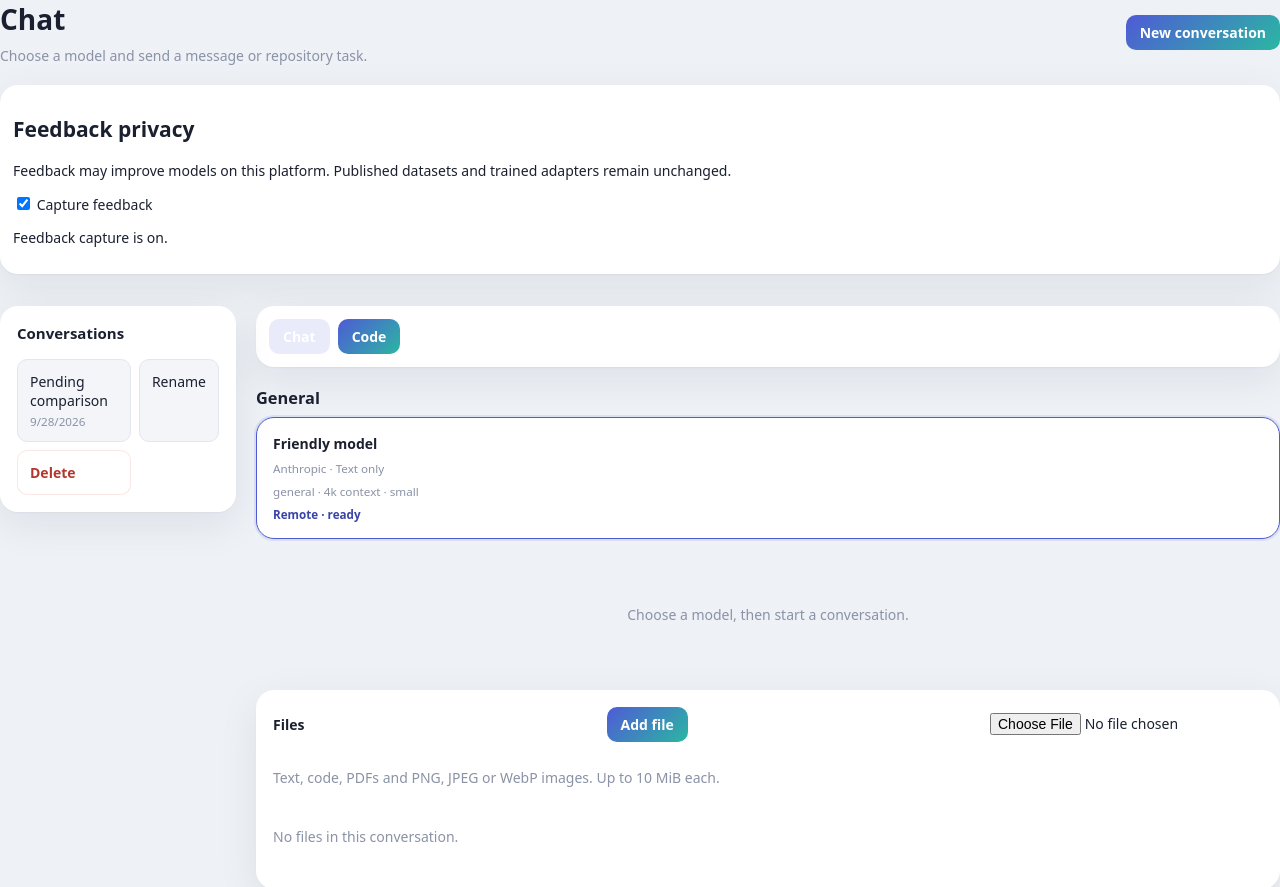
Test: reopening a pending comparison locks context without generating another answer
The width and height of the screenshot is (1280, 887).
Step 1. Click the button "Pending comparison 9/28/2026" → point(74, 400), box x1=17 y1=359 x2=131 y2=442
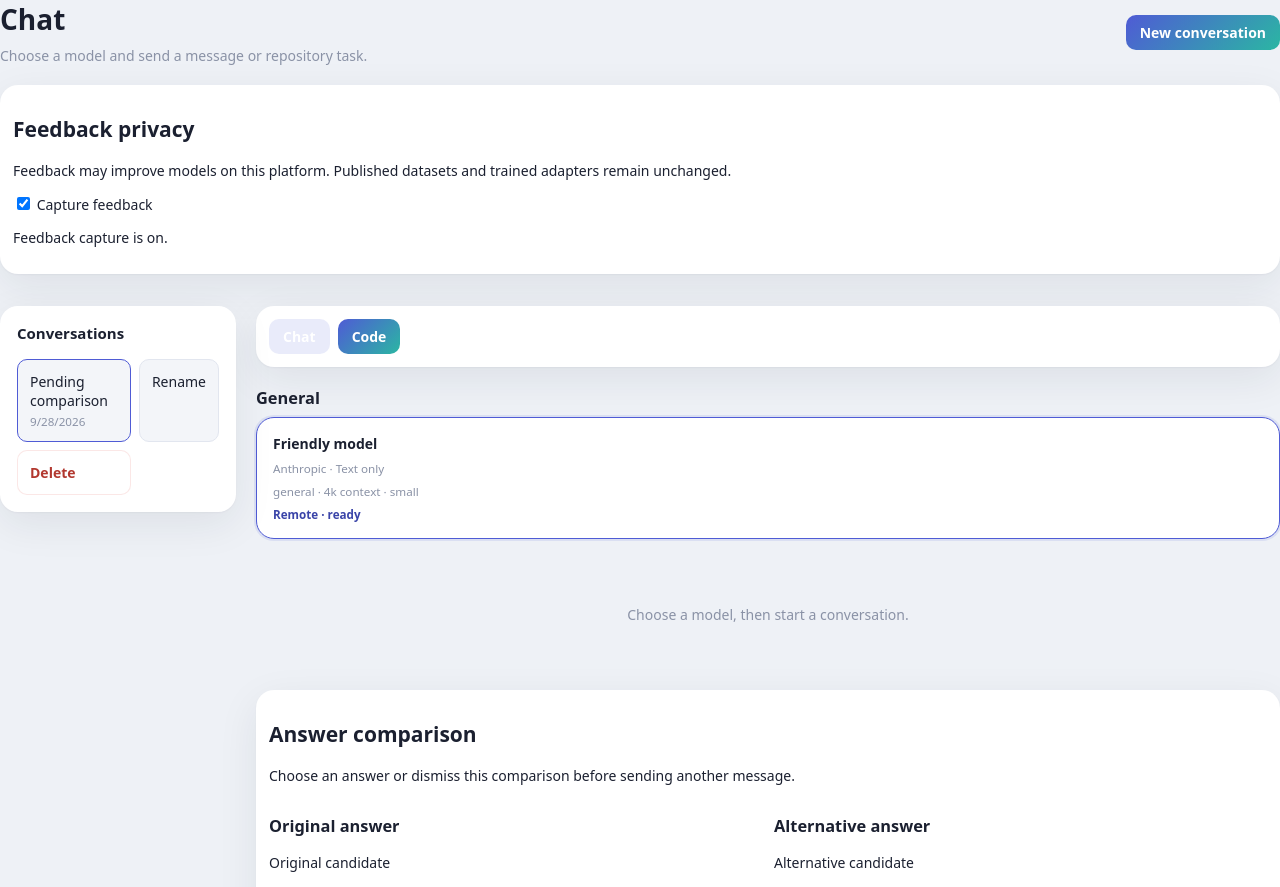
Expected: the button "Friendly model" is disabled, x1=256 y1=417 x2=1279 y2=539
Expected: the text "Alternative candidate" is shown, x1=774 y1=853 x2=914 y2=872
